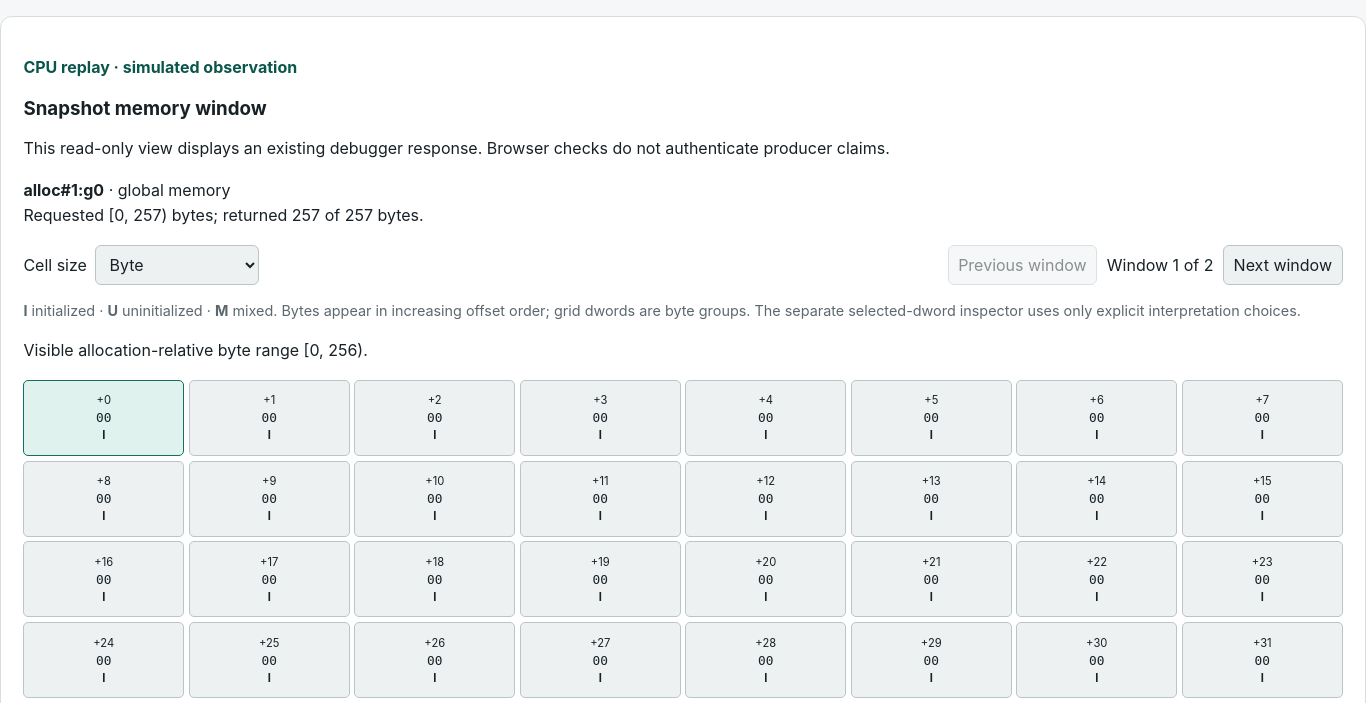
resource memory view › renders a bounded viewport for larger synthetic layout fixtures
Click the button "Next window". click: click(1283, 265)
box: [1223,245,1343,285]
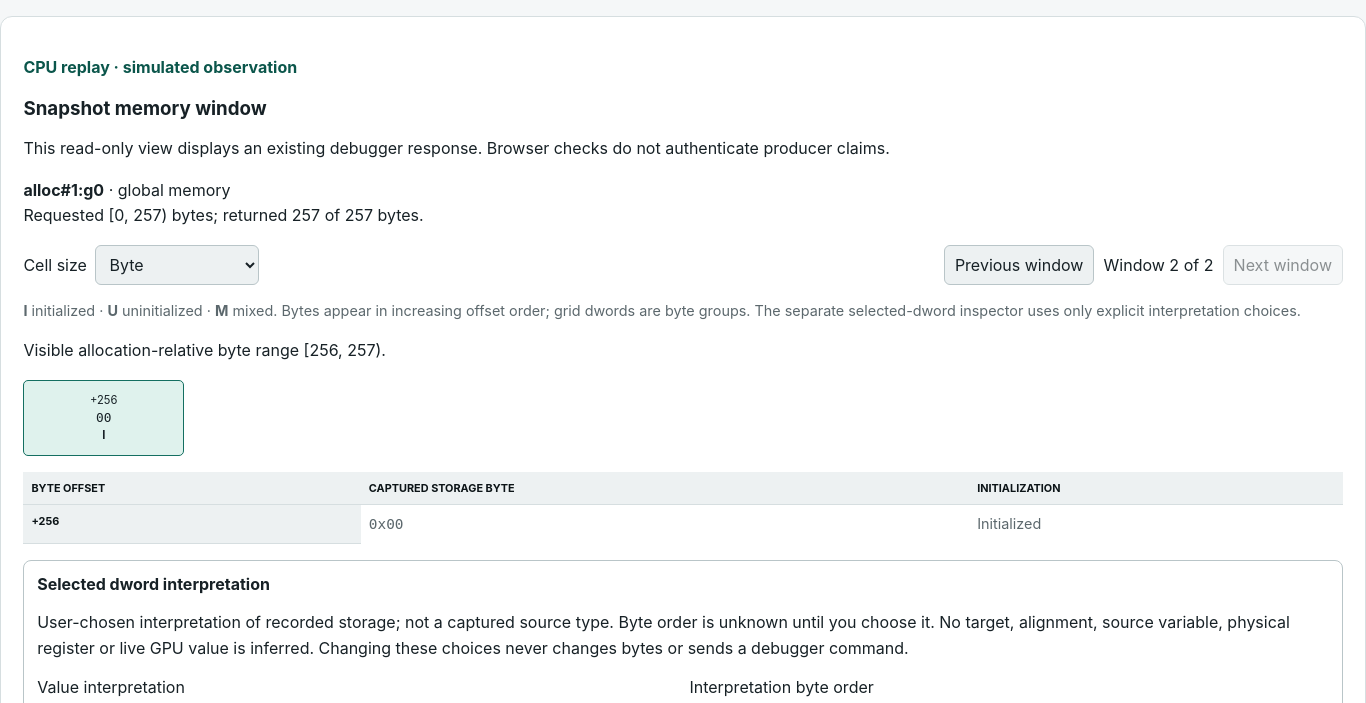
Check: the text "Visible allocation-relative byte range [256, 257)." is shown, box [23,340,386,360]
Check: the button "Next window" is disabled, box [1223,245,1343,285]
Click the button "Previous window". click: click(1019, 265)
box: [944,245,1094,285]
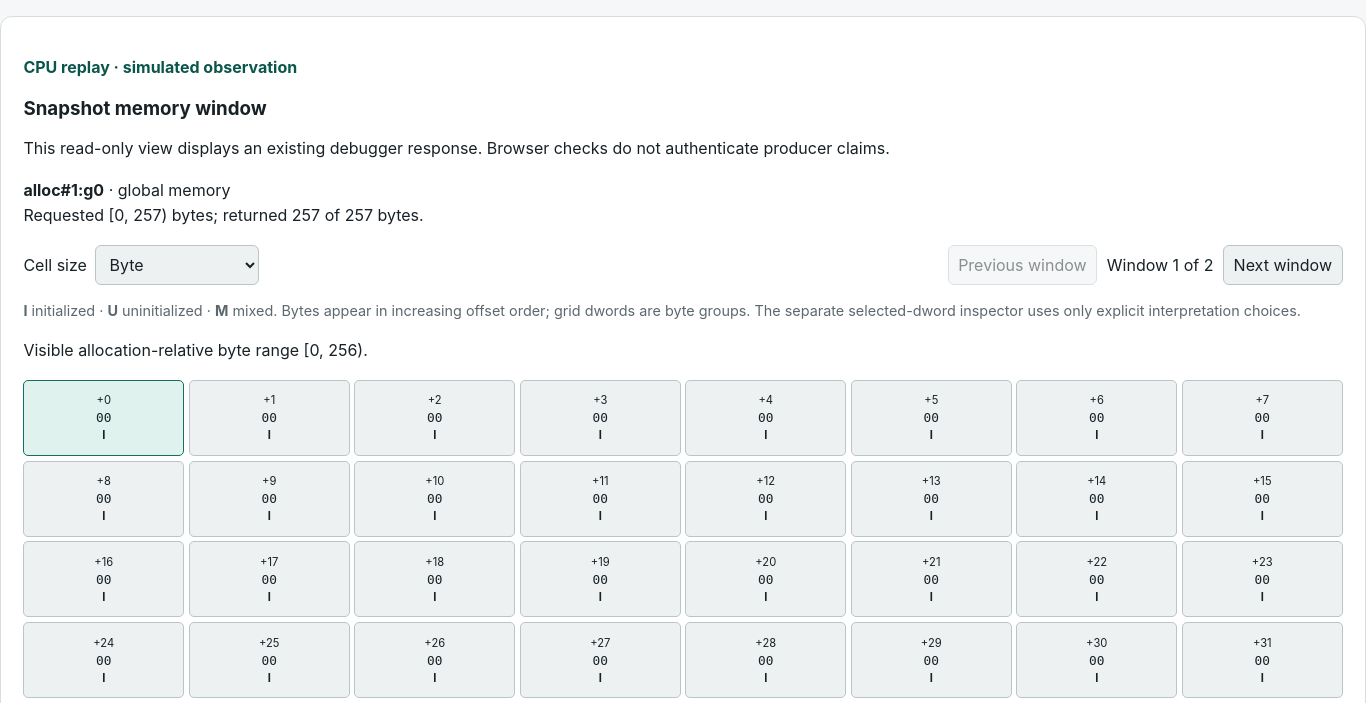
Check: the button "Previous window" is disabled, box [948,245,1097,285]
